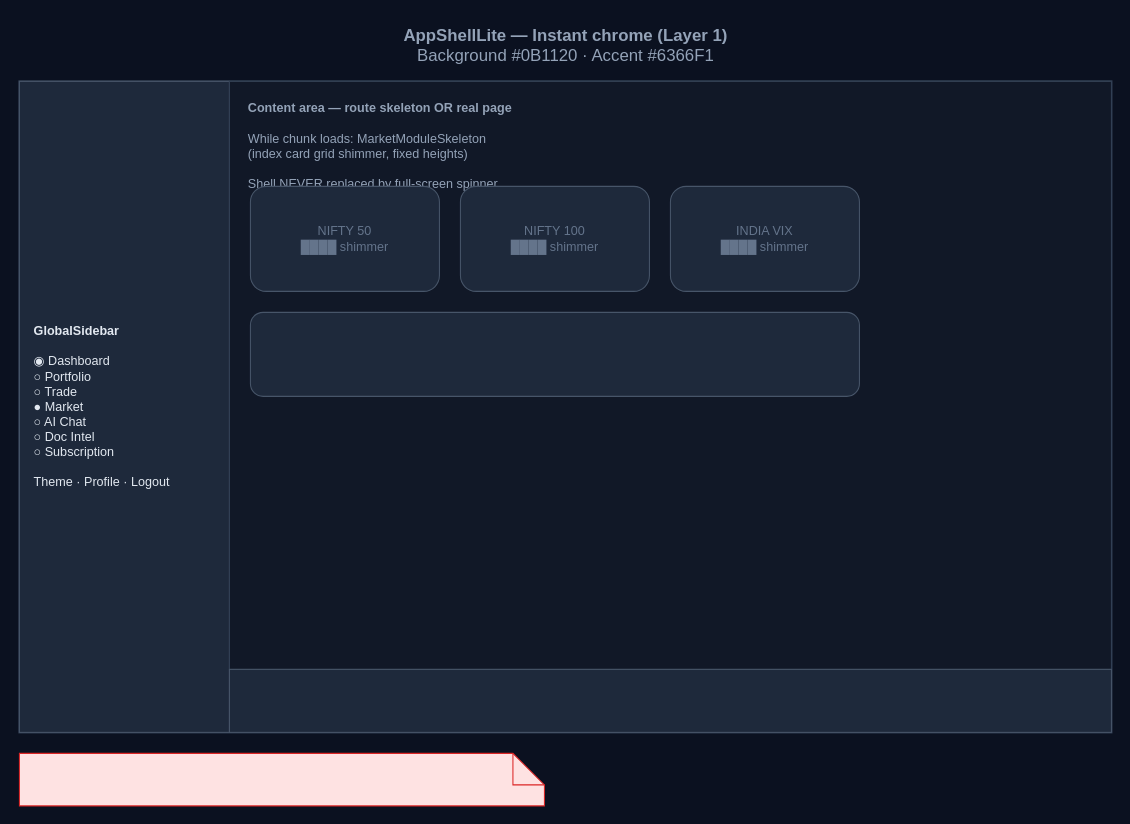
Image size: 1130x824. Some labels were removed from this diagram. Each missing label, with the box of its shape:
Chart strip shimmer ████████████: (249, 311, 859, 396)
Dashboard · Portfolio · Trade · Market · More: (228, 668, 1111, 732)
Fix: index cards use fixed height → no BOTTOM OVERFLOWED BY 28 PIXELS: (18, 752, 544, 806)
